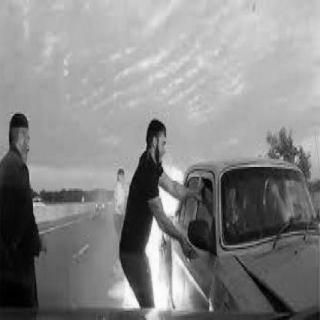Fire: (105, 157, 193, 316)
